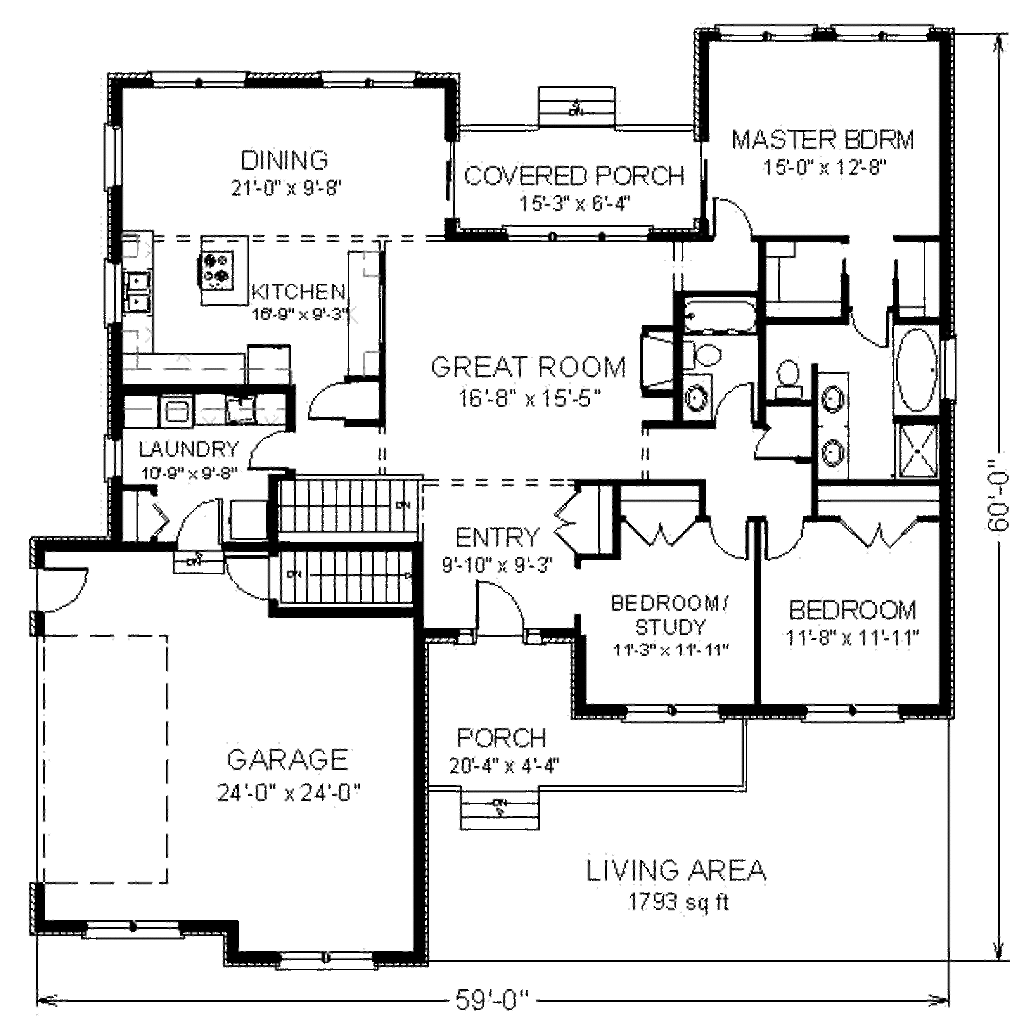door: (461, 569, 551, 644), (826, 511, 927, 560), (542, 481, 595, 558), (708, 498, 758, 576), (613, 510, 701, 553), (761, 507, 809, 573), (216, 550, 276, 600), (293, 369, 347, 423), (237, 424, 300, 469), (700, 189, 759, 237), (176, 497, 227, 550), (34, 566, 88, 611), (711, 377, 756, 424), (848, 305, 893, 350), (756, 423, 792, 463)
large_sink: (676, 331, 751, 373), (764, 355, 809, 407)
small_sink: (811, 374, 848, 473), (684, 374, 709, 418)
stairs: (516, 76, 635, 140), (440, 787, 547, 834)
tub: (887, 316, 943, 411), (674, 286, 771, 336)
twin_sink: (113, 269, 150, 319)
window: (509, 215, 663, 244), (829, 13, 942, 47), (798, 694, 909, 726), (324, 58, 424, 90), (605, 697, 727, 723), (88, 913, 180, 945), (88, 250, 124, 331), (714, 19, 819, 45), (268, 947, 377, 971), (101, 436, 140, 489), (150, 69, 245, 87), (105, 121, 121, 192)
